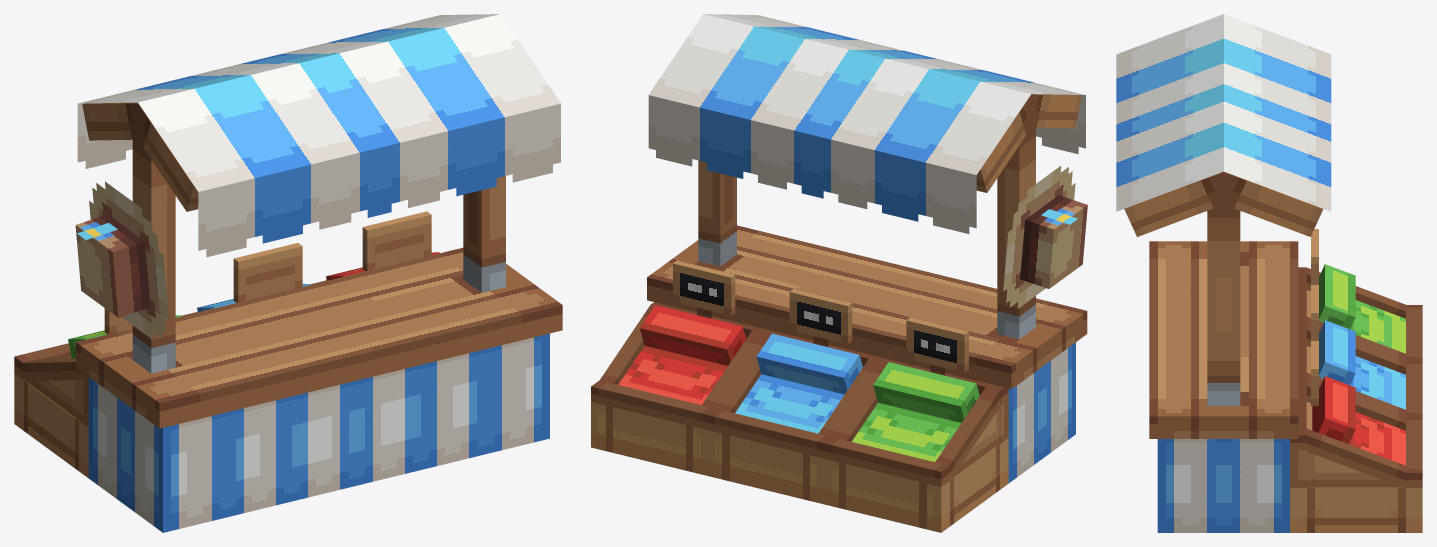
File: fabric-stall.gltf
3 renders of one model, left to right at view 1: azimuth 30°, elevation 25°; view 2: azimuth 150°, elevation 25°; view 3: azimuth 270°, elevation 25°, orthographic. The views are drawn at different scales.
Parts seen in each view (by area): view 1: cube (×18); view 2: cube (×35); view 3: cube (×31).
Part boxes in pixels (x1,y1,x2,y2): cube (×18): [14, 14, 562, 532]; cube (×35): [591, 14, 1087, 532]; cube (×31): [1116, 14, 1422, 532].
Bounding box in the file's own units: 2.53 × 2.22 × 1.73.
Materials: 2 (2 with a texture image).
